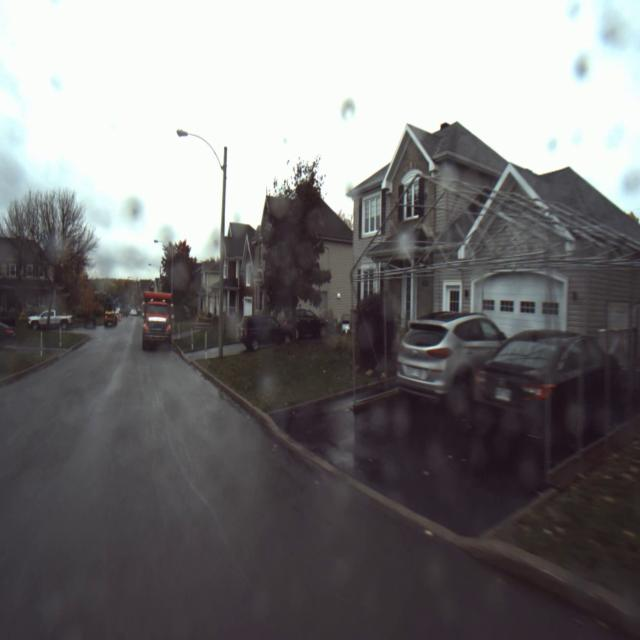truck: (139, 282, 181, 358)
